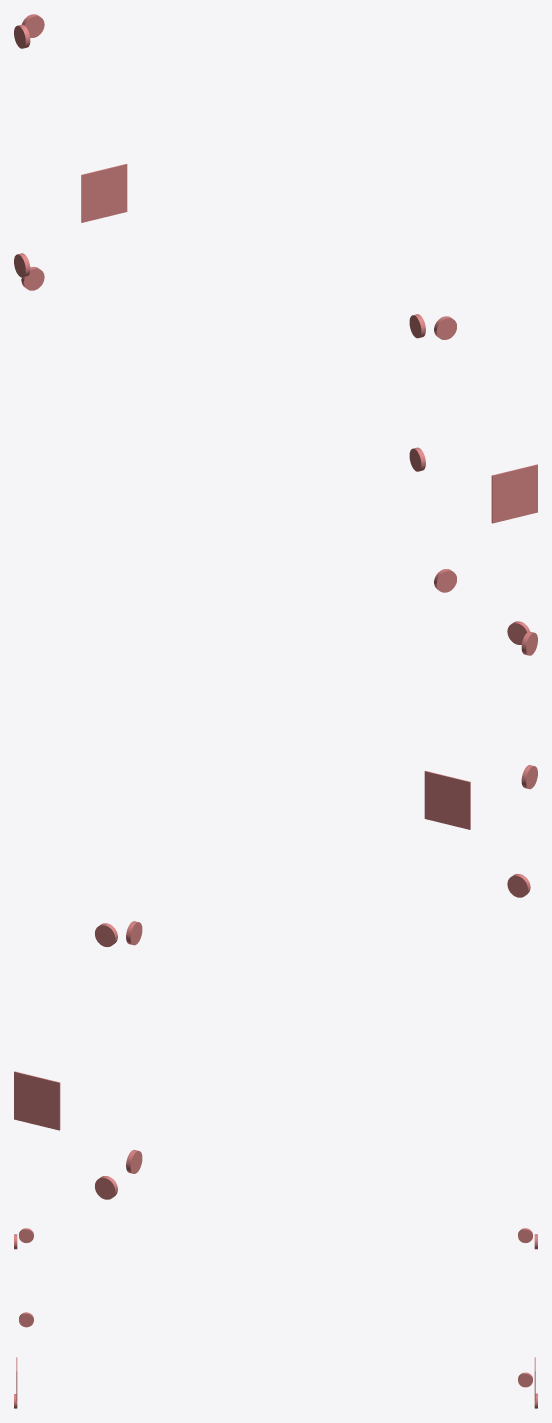
The model's file is WATER_HEATING SYSTEMS__HEAT PUMP VENTS & INTAKES.glb.
3 views of the same model, one above another, from view 1: azimuth 30°, elevation 25°; view 2: azimuth 150°, elevation 25°; view 3: azimuth 270°, elevation 25° (orthographic). The views are drawn at different scales.
Parts seen in each view (by area): view 1: HEAT PUMP VENTS & INTAKES; view 2: HEAT PUMP VENTS & INTAKES; view 3: HEAT PUMP VENTS & INTAKES.
Boxes of the visible parts, bbox=[...] form: HEAT PUMP VENTS & INTAKES: bbox=[14, 14, 537, 592]; HEAT PUMP VENTS & INTAKES: bbox=[14, 621, 537, 1199]; HEAT PUMP VENTS & INTAKES: bbox=[14, 1228, 537, 1408].
Size of the model in its own units: 0.6398 by 1.46 by 4.01.
